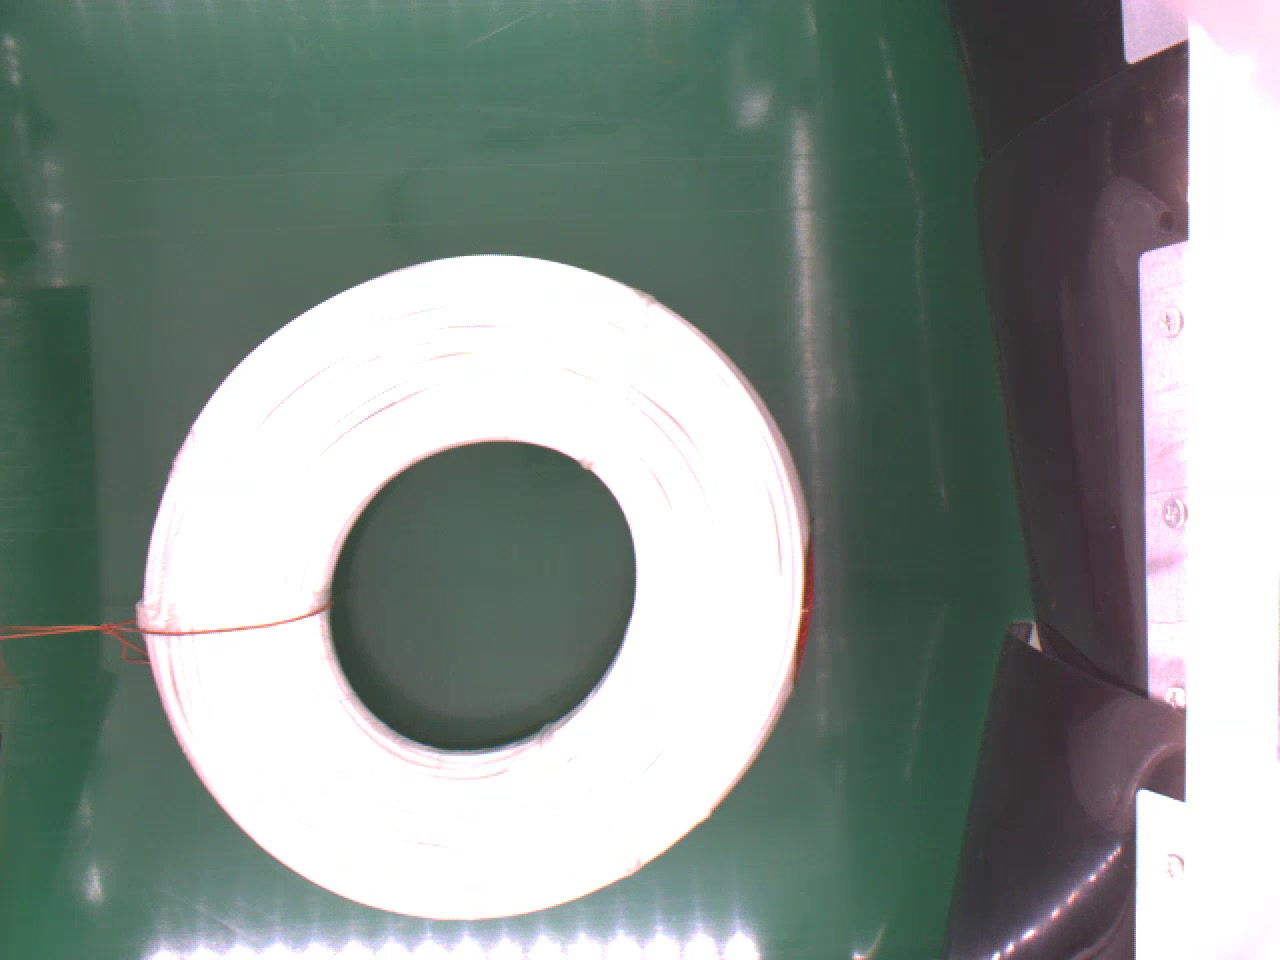white: (144, 248, 825, 920)
